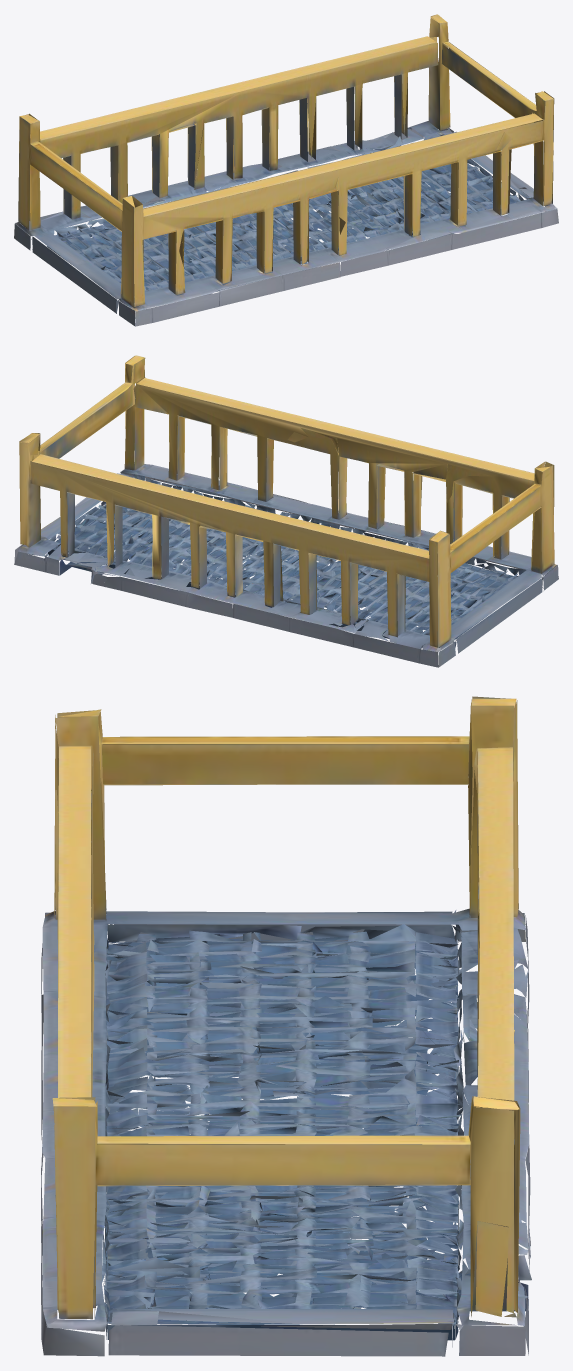
Rendered from catwalk.glb.
3 renders of one model, top to bottom at view 1: azimuth 30°, elevation 25°; view 2: azimuth 150°, elevation 25°; view 3: azimuth 270°, elevation 25°, orthographic. The views are drawn at different scales.
Parts seen in each view (by area): view 1: Industrial_catwalk; view 2: Industrial_catwalk; view 3: Industrial_catwalk.
Boxes of the visible parts, x1=… form: Industrial_catwalk: x1=14, y1=14, x2=558, y2=326; Industrial_catwalk: x1=14, y1=355, x2=558, y2=667; Industrial_catwalk: x1=41, y1=696, x2=531, y2=1356.
Size of the model in its own units: 4.01 by 1.14 by 2.
1 material, 1 textured.
